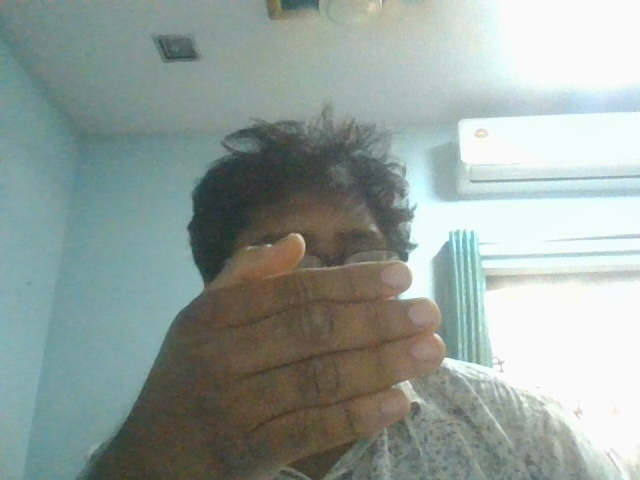LEFT: (196, 239, 452, 457)
